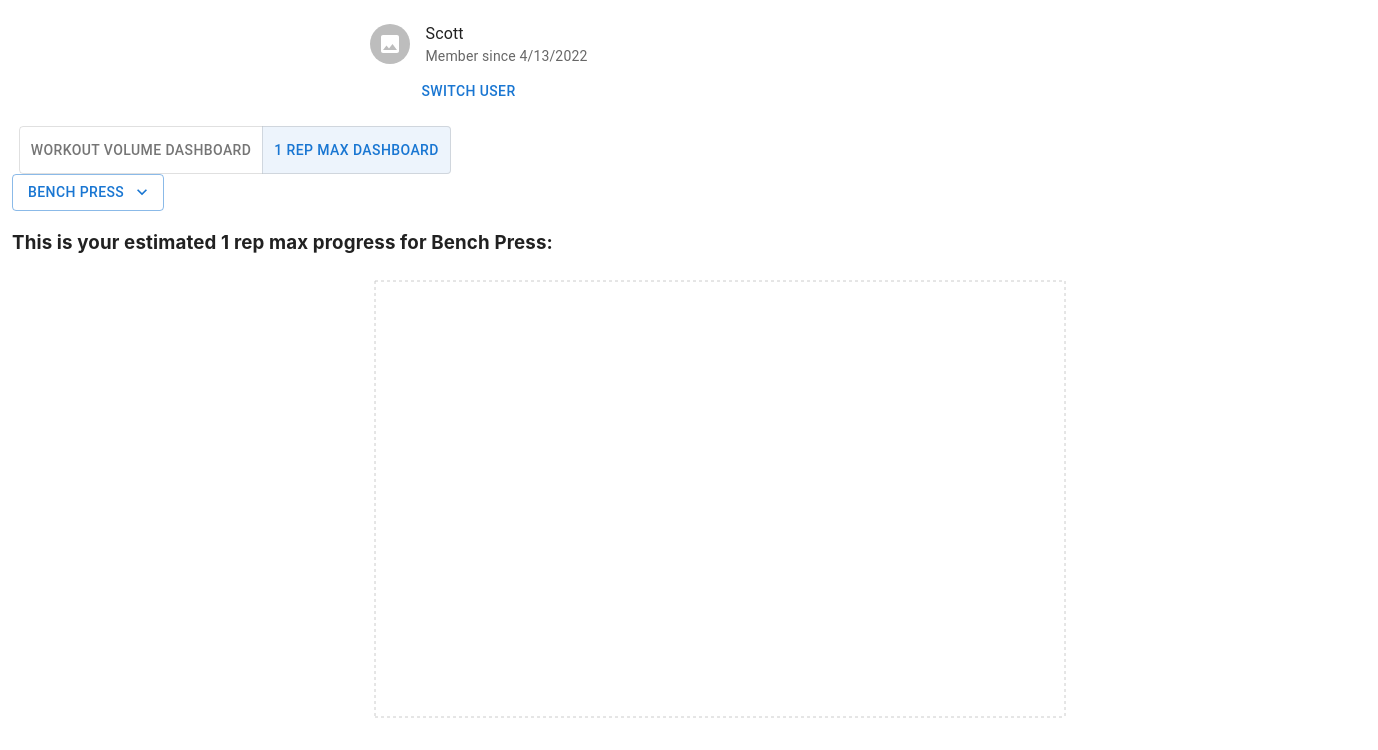
Test: Volume dashboard tests › Push 1 test
What coordinates should you click on to do the following:
click the button with test id "dashboard-toggle-volume"
I would click on:
 (141, 150)
Its box is [19,126,263,174].
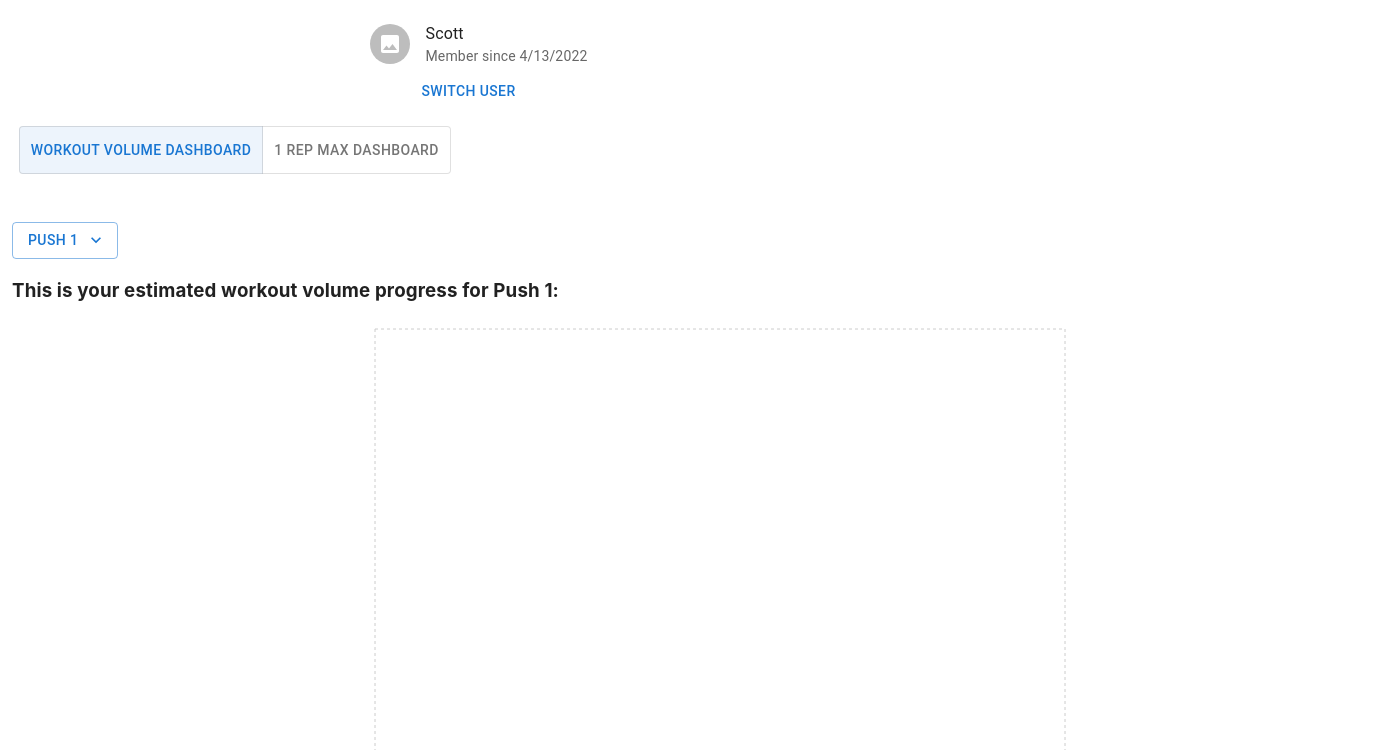
Now the button with test id "split-options" reads "Push 1", box [12,222,118,258]
